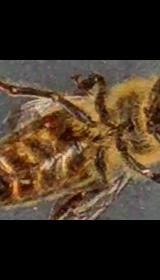varroa_mite: (39, 106, 60, 134)
